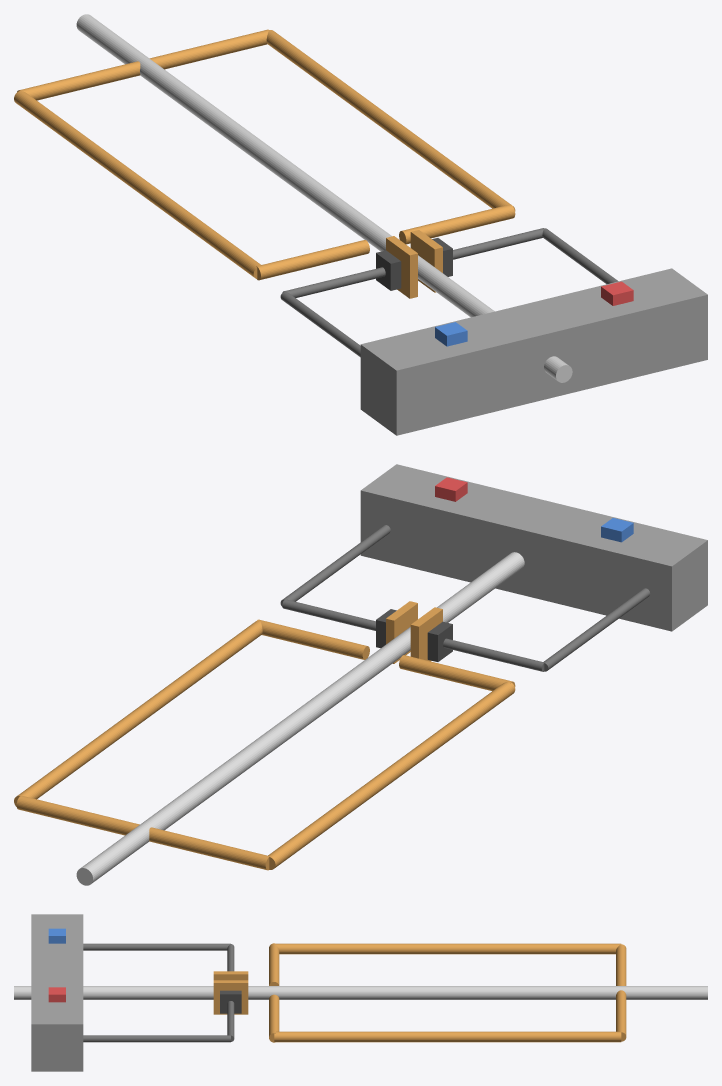
File: dc_motor_full.glb
3 views of the same model, one above another, from view 1: azimuth 30°, elevation 25°; view 2: azimuth 150°, elevation 25°; view 3: azimuth 270°, elevation 25° (orthographic). The views are drawn at different scales.
Visible parts, largest first — view 1: PowerBox, Shaft, Coil_L, Coil_R, Coil_Top, Coil_Bot_L, Coil_Bot_R, Commutator_L, Wire_L1, Wire_L2, Wire_R1, Wire_R2 (+2 smaller); view 2: PowerBox, Shaft, Coil_L, Coil_R, Coil_Top, Coil_Bot_R, Coil_Bot_L, Wire_L2, Wire_R2, Wire_L1, Commutator_L, Wire_R1 (+2 smaller); view 3: Shaft, PowerBox, Coil_R, Coil_L, Wire_R2, Wire_L2, Coil_Top, Commutator_R, Coil_Bot_R, Brush_R, Coil_Bot_L, Commutator_L (+3 smaller).
Boxes of the visible parts, x1,y1,x2,y2 form: PowerBox: (360, 268, 707, 435); Shaft: (76, 14, 572, 382); Coil_L: (14, 91, 260, 278); Coil_R: (266, 30, 515, 211); Coil_Top: (17, 29, 268, 100); Coil_Bot_L: (256, 240, 369, 280); Coil_Bot_R: (399, 204, 515, 244); Commutator_L: (386, 236, 417, 298); Wire_L1: (282, 267, 385, 297); Wire_L2: (280, 291, 360, 357); Wire_R1: (453, 228, 543, 259); Wire_R2: (542, 228, 618, 284); PowerBox: (360, 464, 707, 631); Shaft: (76, 552, 524, 885); Coil_L: (268, 681, 515, 869); Coil_R: (14, 620, 262, 806); Coil_Top: (16, 796, 269, 870); Coil_Bot_R: (256, 619, 369, 659); Coil_Bot_L: (399, 655, 515, 691); Wire_L2: (543, 588, 650, 671); Wire_R2: (280, 525, 390, 606); Wire_L1: (443, 638, 544, 671); Commutator_L: (410, 607, 442, 661); Wire_R1: (282, 599, 375, 630); Shaft: (14, 986, 707, 999); PowerBox: (31, 914, 83, 1071); Coil_R: (274, 1031, 621, 1042); Coil_L: (274, 943, 620, 954); Wire_R2: (83, 1035, 230, 1042); Wire_L2: (83, 943, 230, 950); Coil_Top: (616, 944, 626, 1041); Commutator_R: (213, 980, 248, 1014); Coil_Bot_R: (269, 994, 279, 1042); Brush_R: (220, 990, 241, 1013); Coil_Bot_L: (269, 943, 279, 985); Commutator_L: (213, 971, 248, 980).
Size of the model in its own units: 3 by 0.7 by 8.
